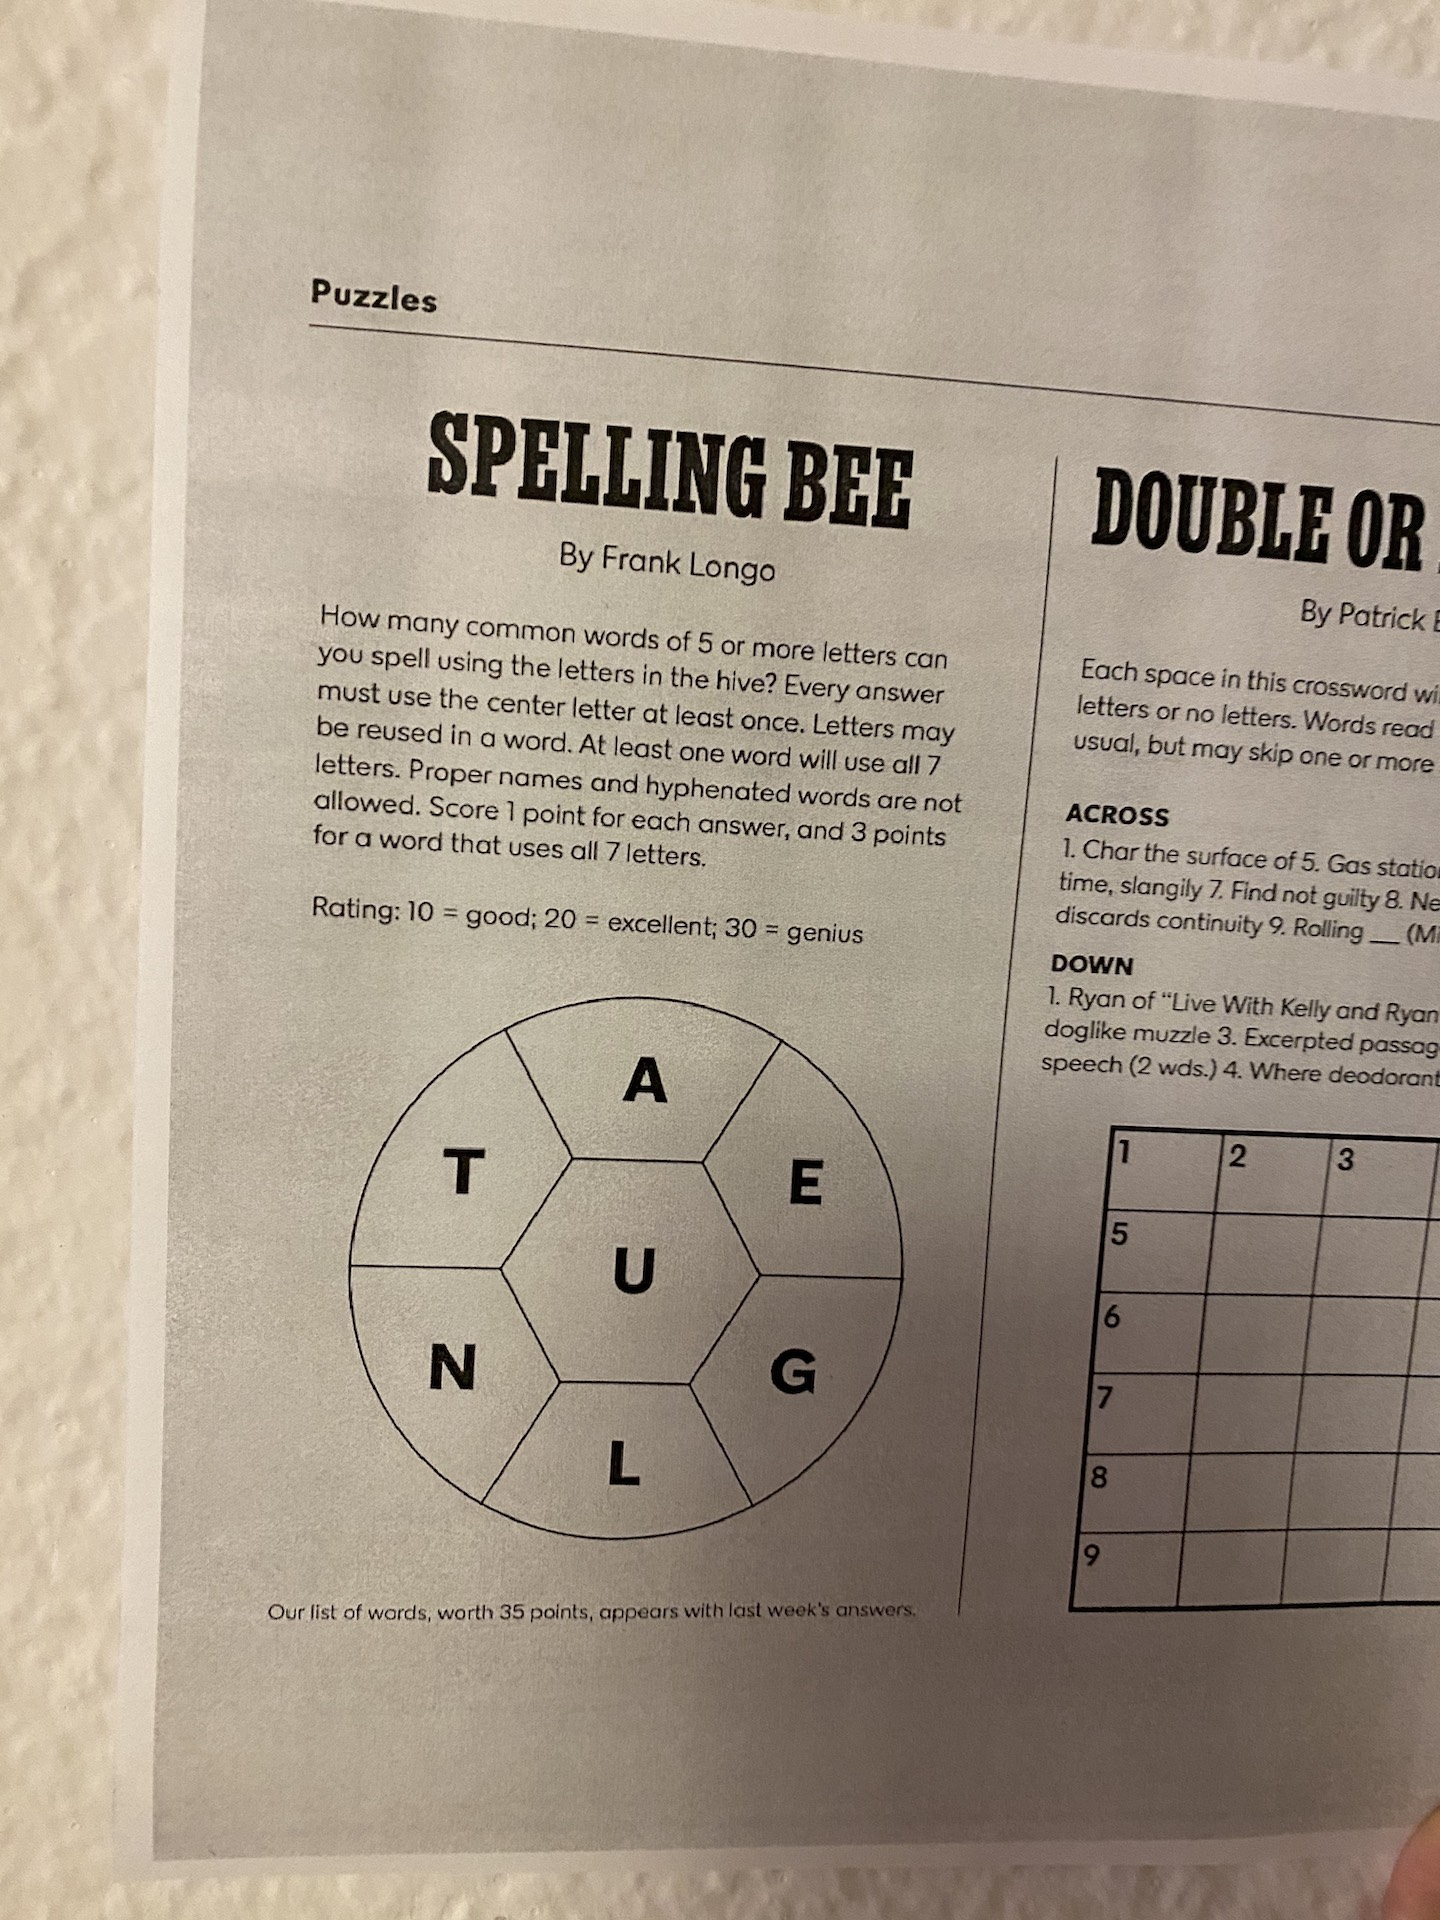Board: (331, 983, 918, 1550)
